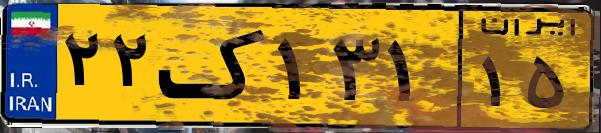1: (270, 28, 330, 110), (385, 28, 445, 110), (475, 38, 525, 113)
2: (57, 26, 110, 100), (110, 28, 158, 98)
3: (330, 28, 385, 110)
5: (525, 38, 570, 115)
ک: (158, 12, 270, 120)
